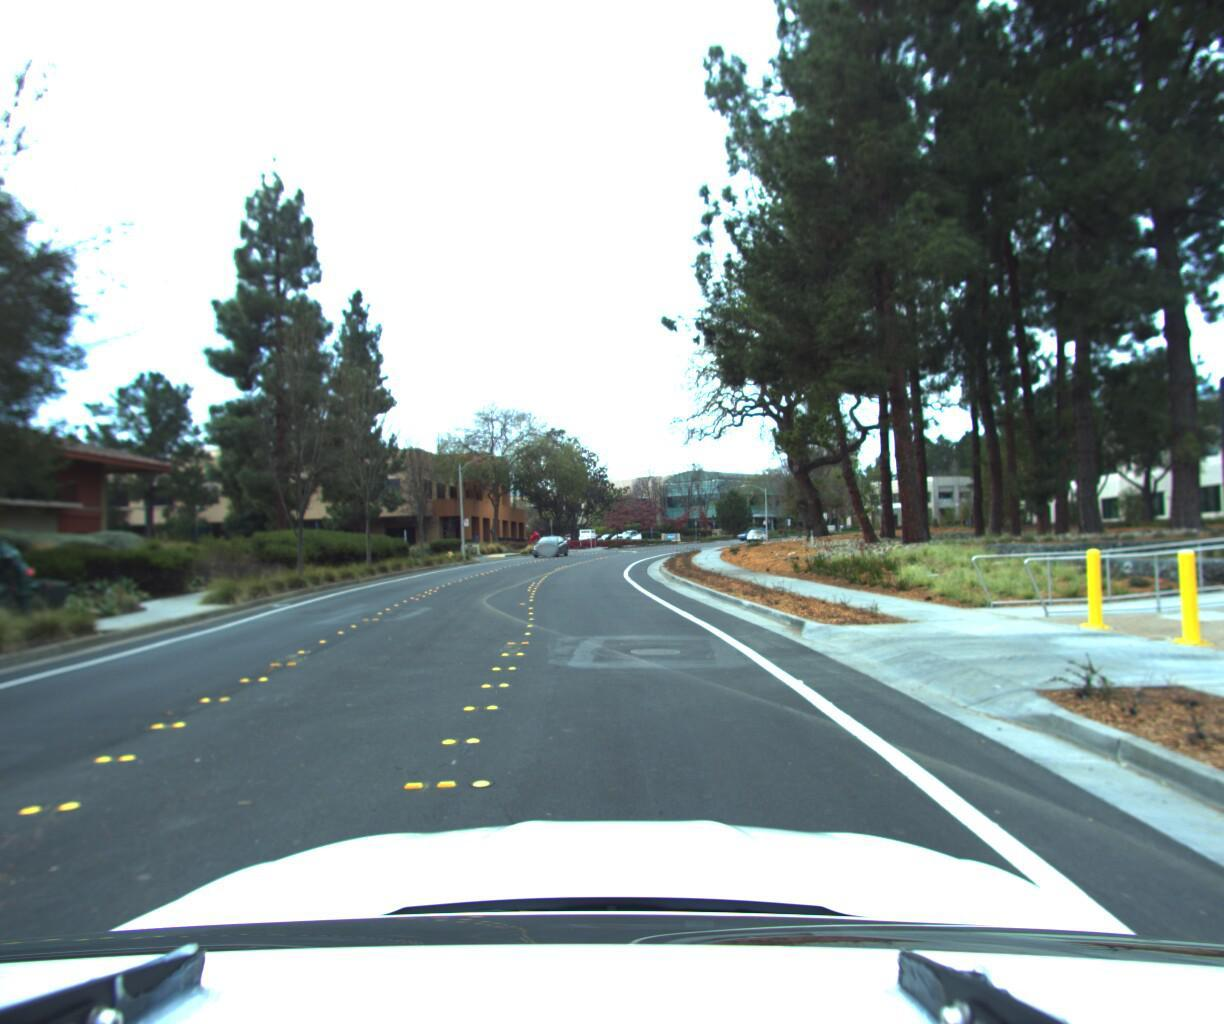car: (531, 533, 570, 556)
